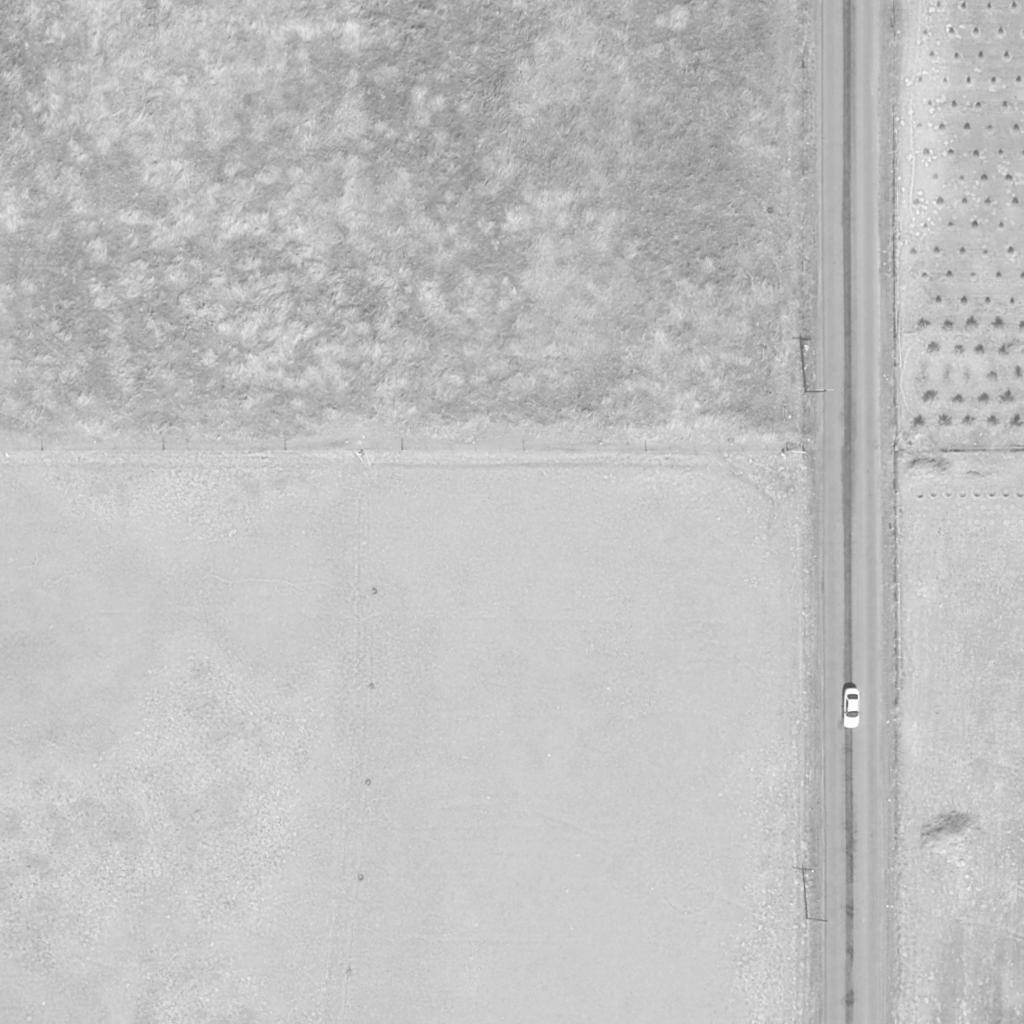vehicle: (843, 689, 861, 729)
